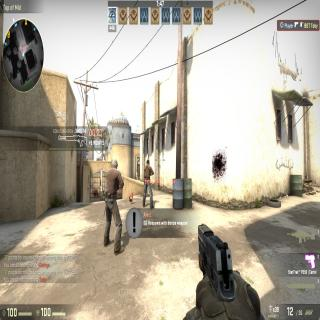CT-Body: (101, 189, 105, 201)
T-Body: (104, 158, 122, 254), (142, 160, 154, 208)
T-Head: (111, 159, 118, 170), (144, 160, 151, 166)
